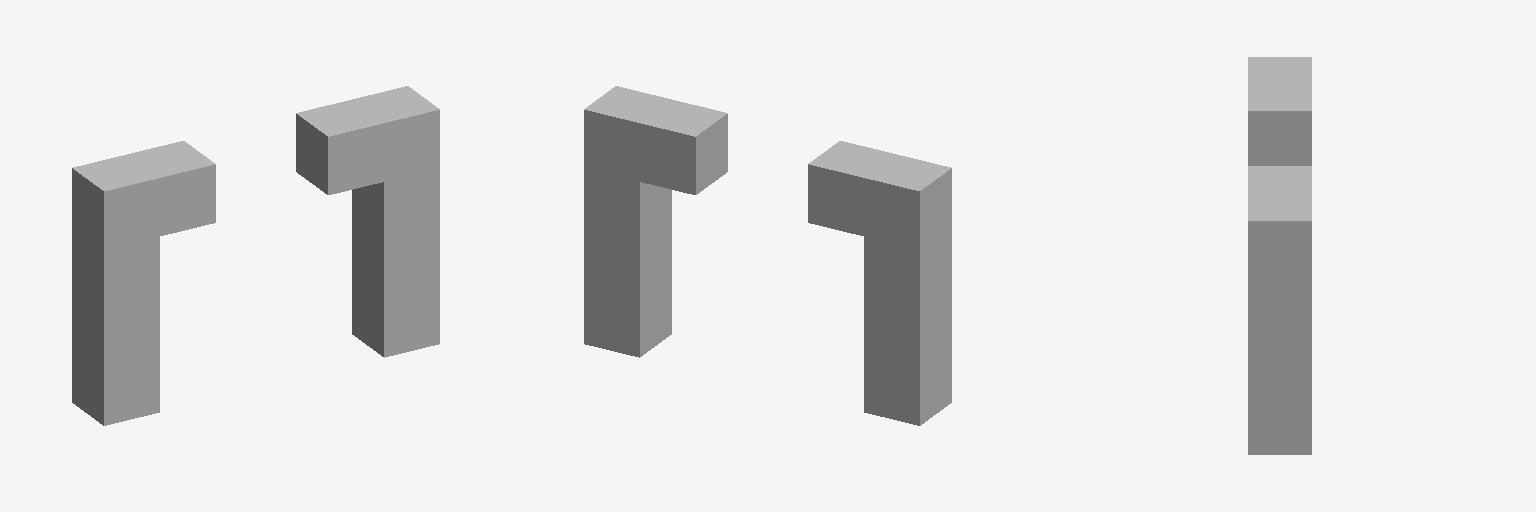
File: bottom.obj
3 views of the same model, side by side, from view 1: azimuth 30°, elevation 25°; view 2: azimuth 150°, elevation 25°; view 3: azimuth 270°, elevation 25° (orthographic).
Parts seen in each view (by area): view 1: cube; view 2: cube; view 3: cube.
Boxes of the visible parts, x1,y1,x2,y2 form: cube: [72, 86, 439, 425]; cube: [584, 86, 951, 425]; cube: [1248, 57, 1311, 454].
Size of the model in its own units: 0.375 by 0.25 by 0.0625.